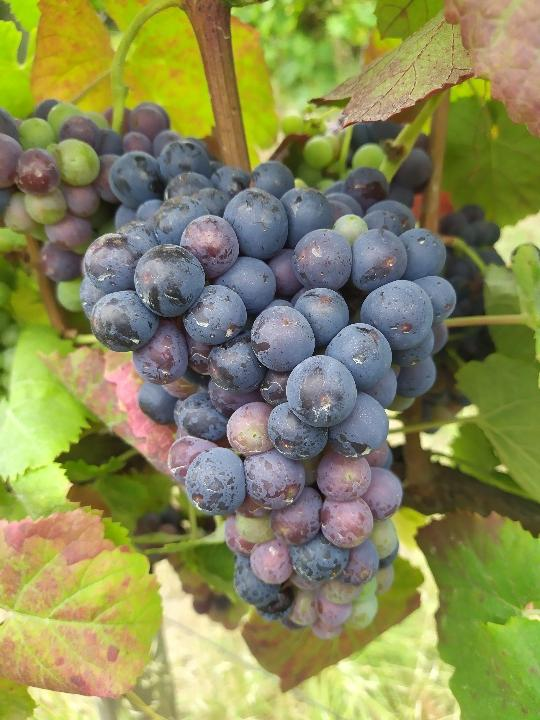grape: (79, 143, 466, 639)
